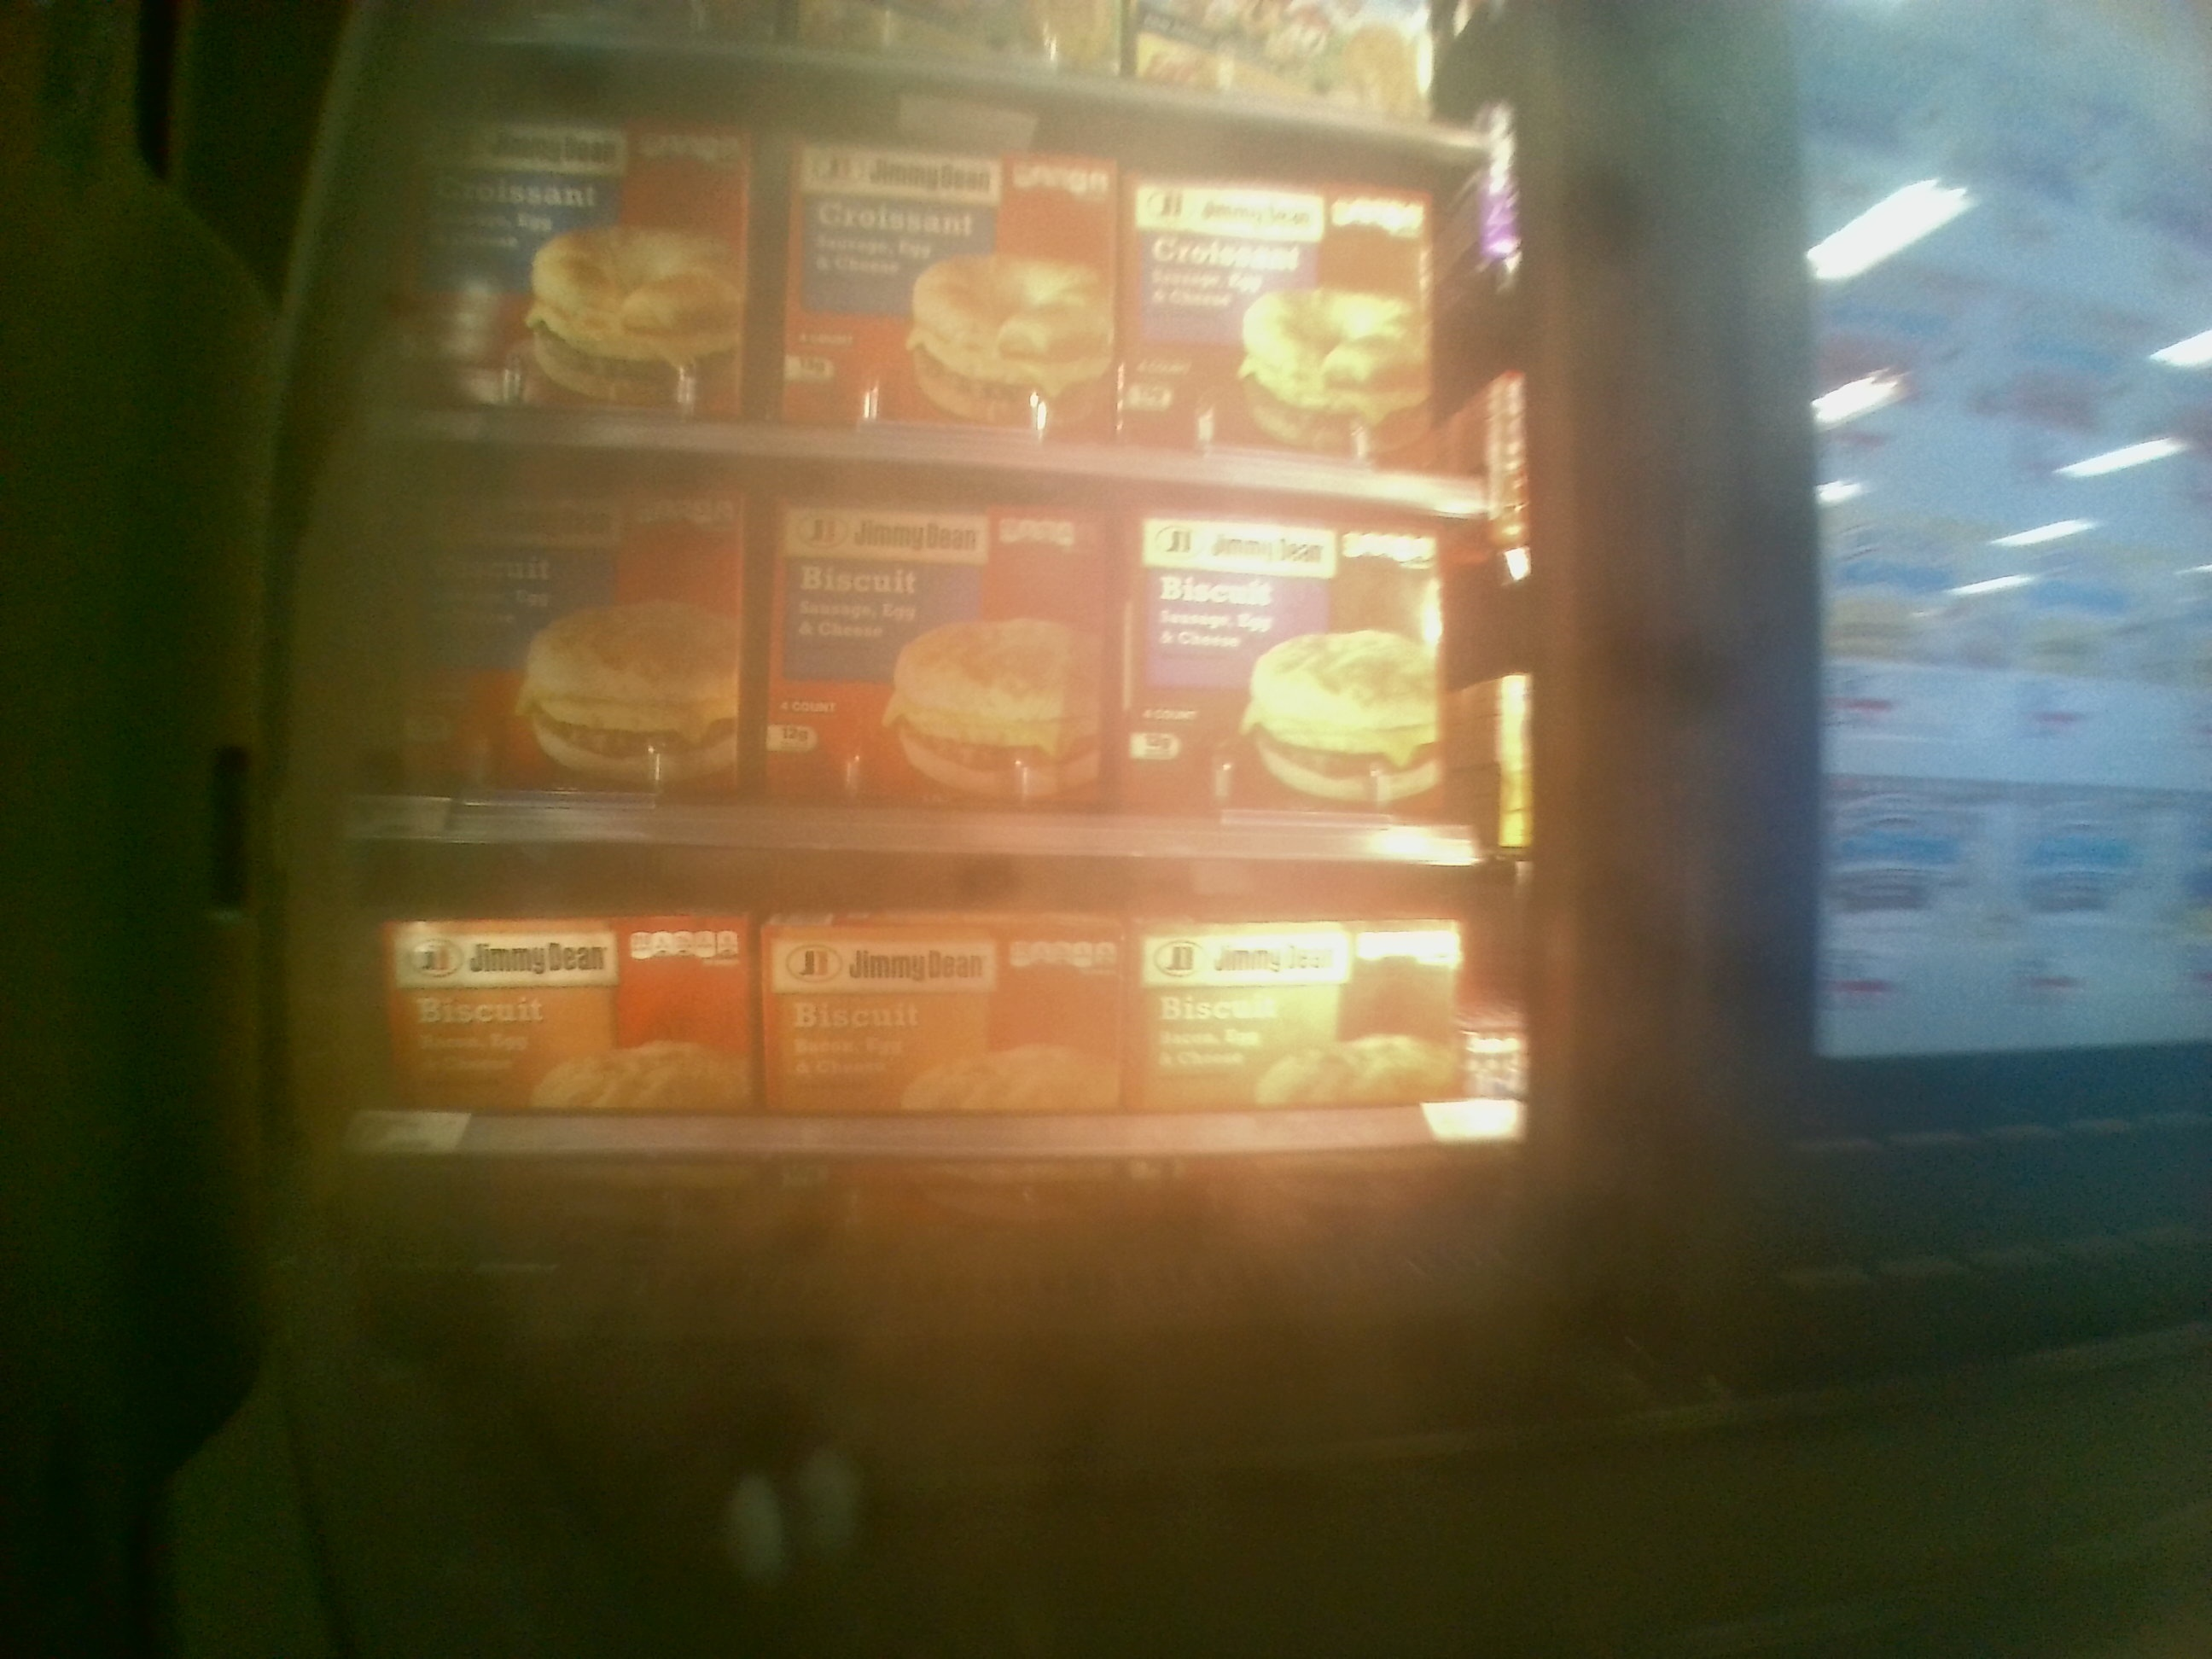shelf: (326, 443, 1529, 857), (320, 849, 1526, 1239)
